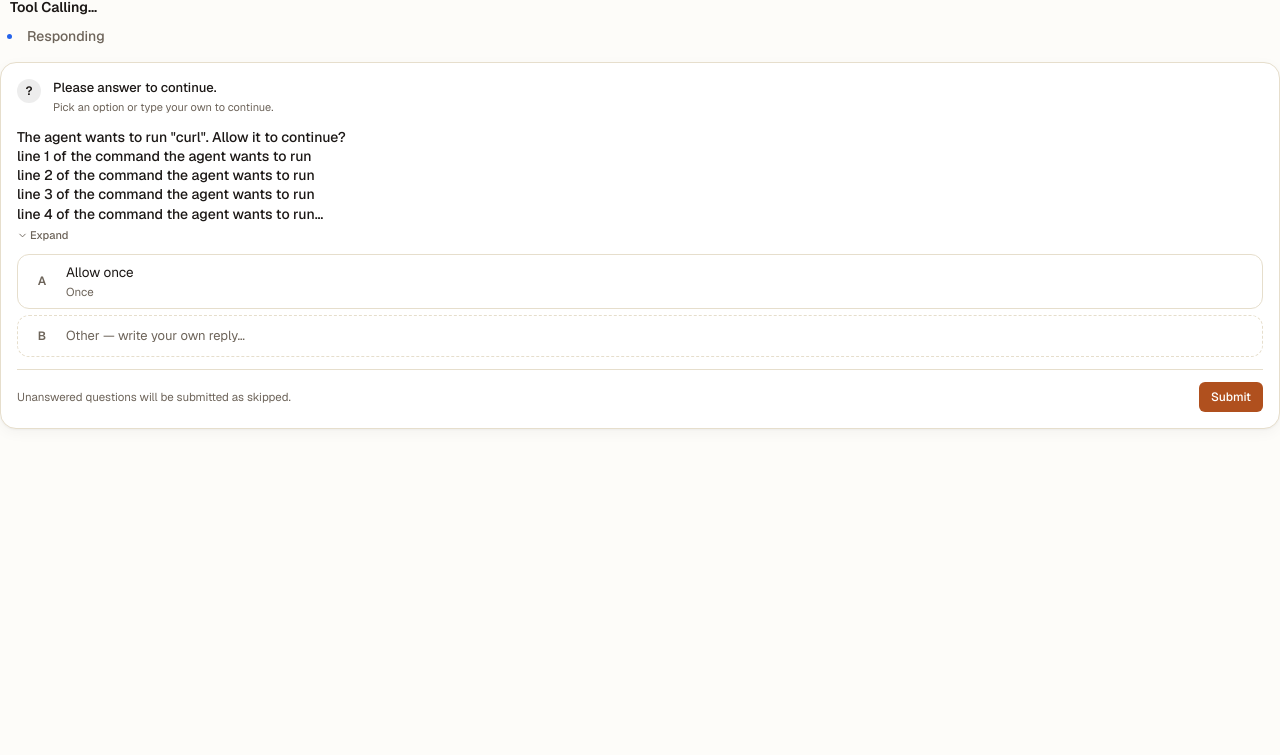
live approval card (turn still streaming) › folds a long prompt behind a toggle instead of filling the card
Step 1. Click the button with aria-label "Expand — Approval" → (43, 235), box [17,228,68,243]
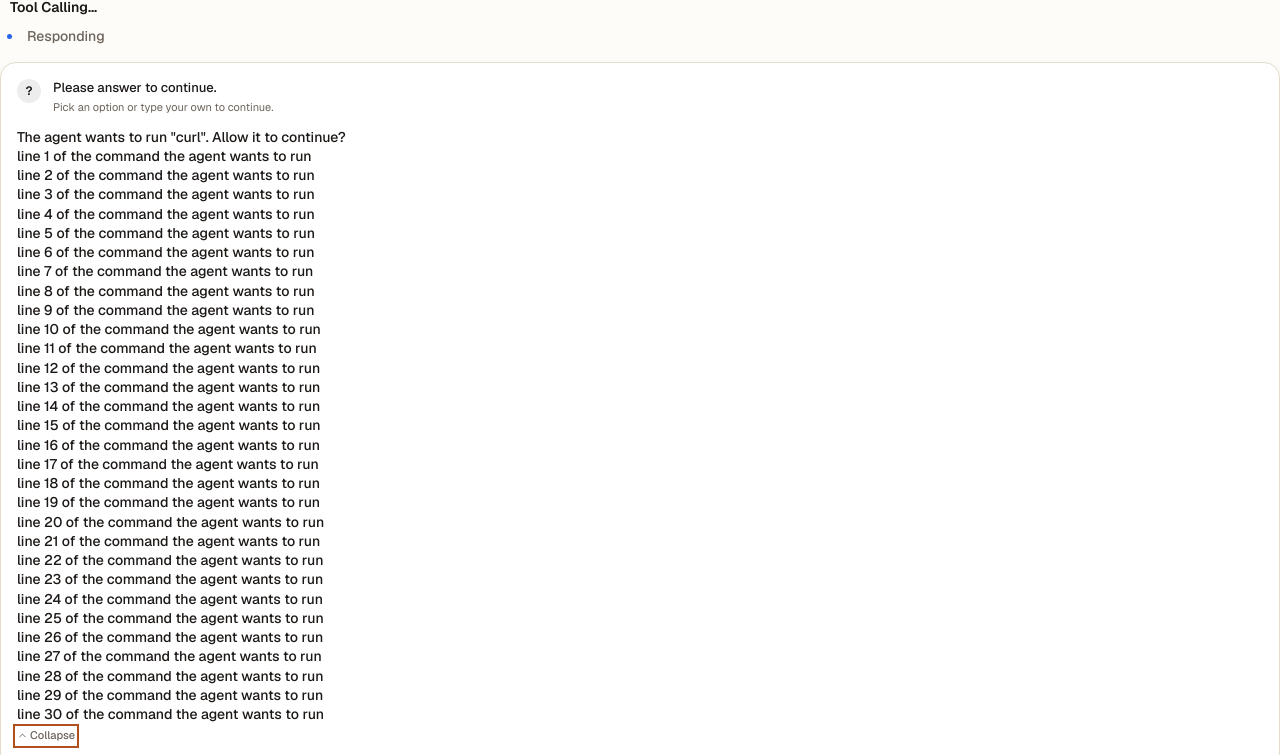
Check: the button with aria-label "Collapse — Approval" is expanded, box [17,728,75,744]
